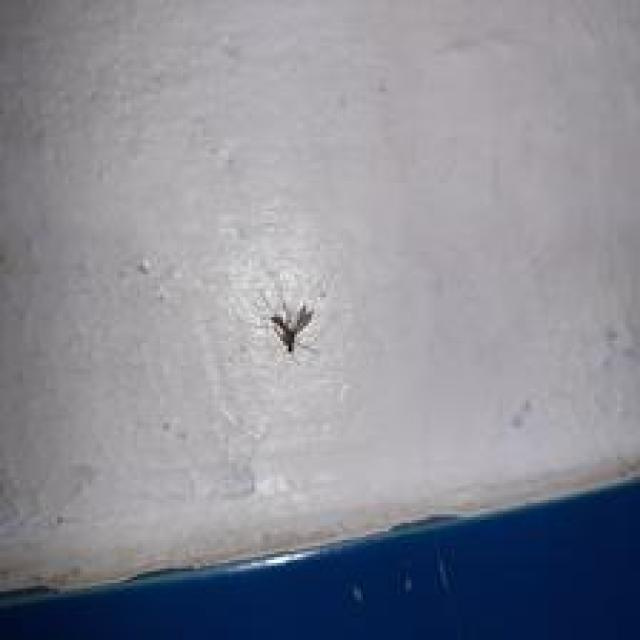Culex: (269, 300, 314, 354)
